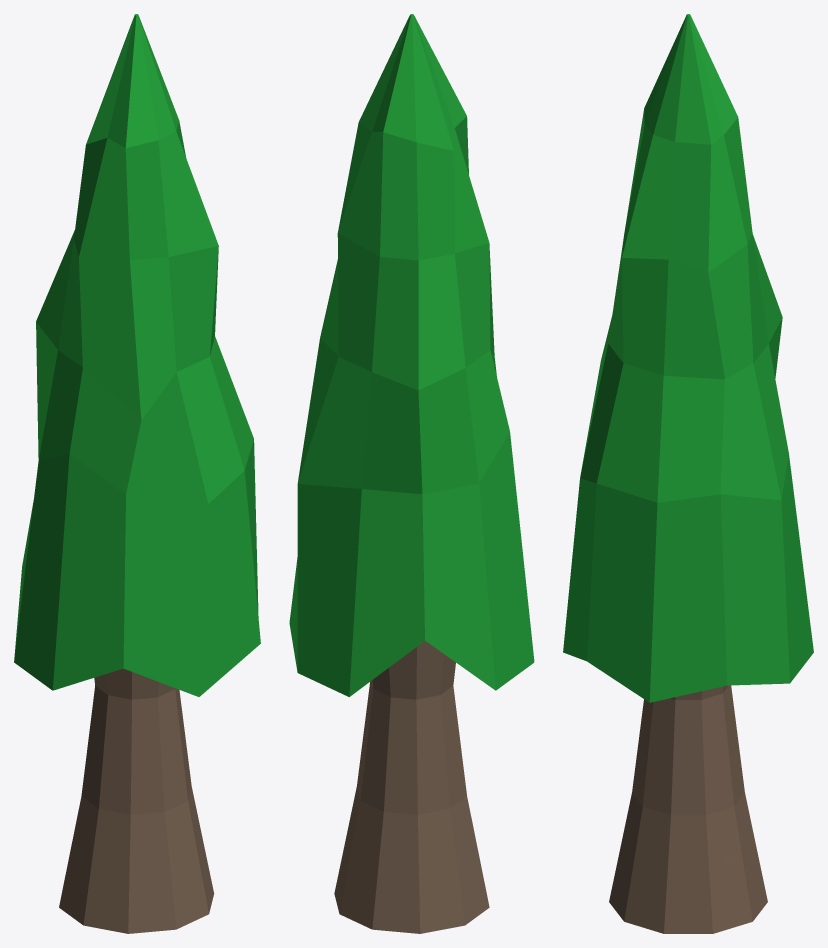
Rendered from tree.glb.
3 renders of one model, left to right at view 1: azimuth 30°, elevation 25°; view 2: azimuth 150°, elevation 25°; view 3: azimuth 270°, elevation 25°, orthographic.
Visible parts, largest first — view 1: Cylinder; view 2: Cylinder; view 3: Cylinder.
Part boxes in pixels (bbox=[...]): Cylinder: bbox=[14, 14, 260, 933]; Cylinder: bbox=[289, 14, 534, 933]; Cylinder: bbox=[563, 14, 813, 933].
Size of the model in its own units: 0.5706 by 2.34 by 0.6.
Materials: 1 (1 with a texture image).
